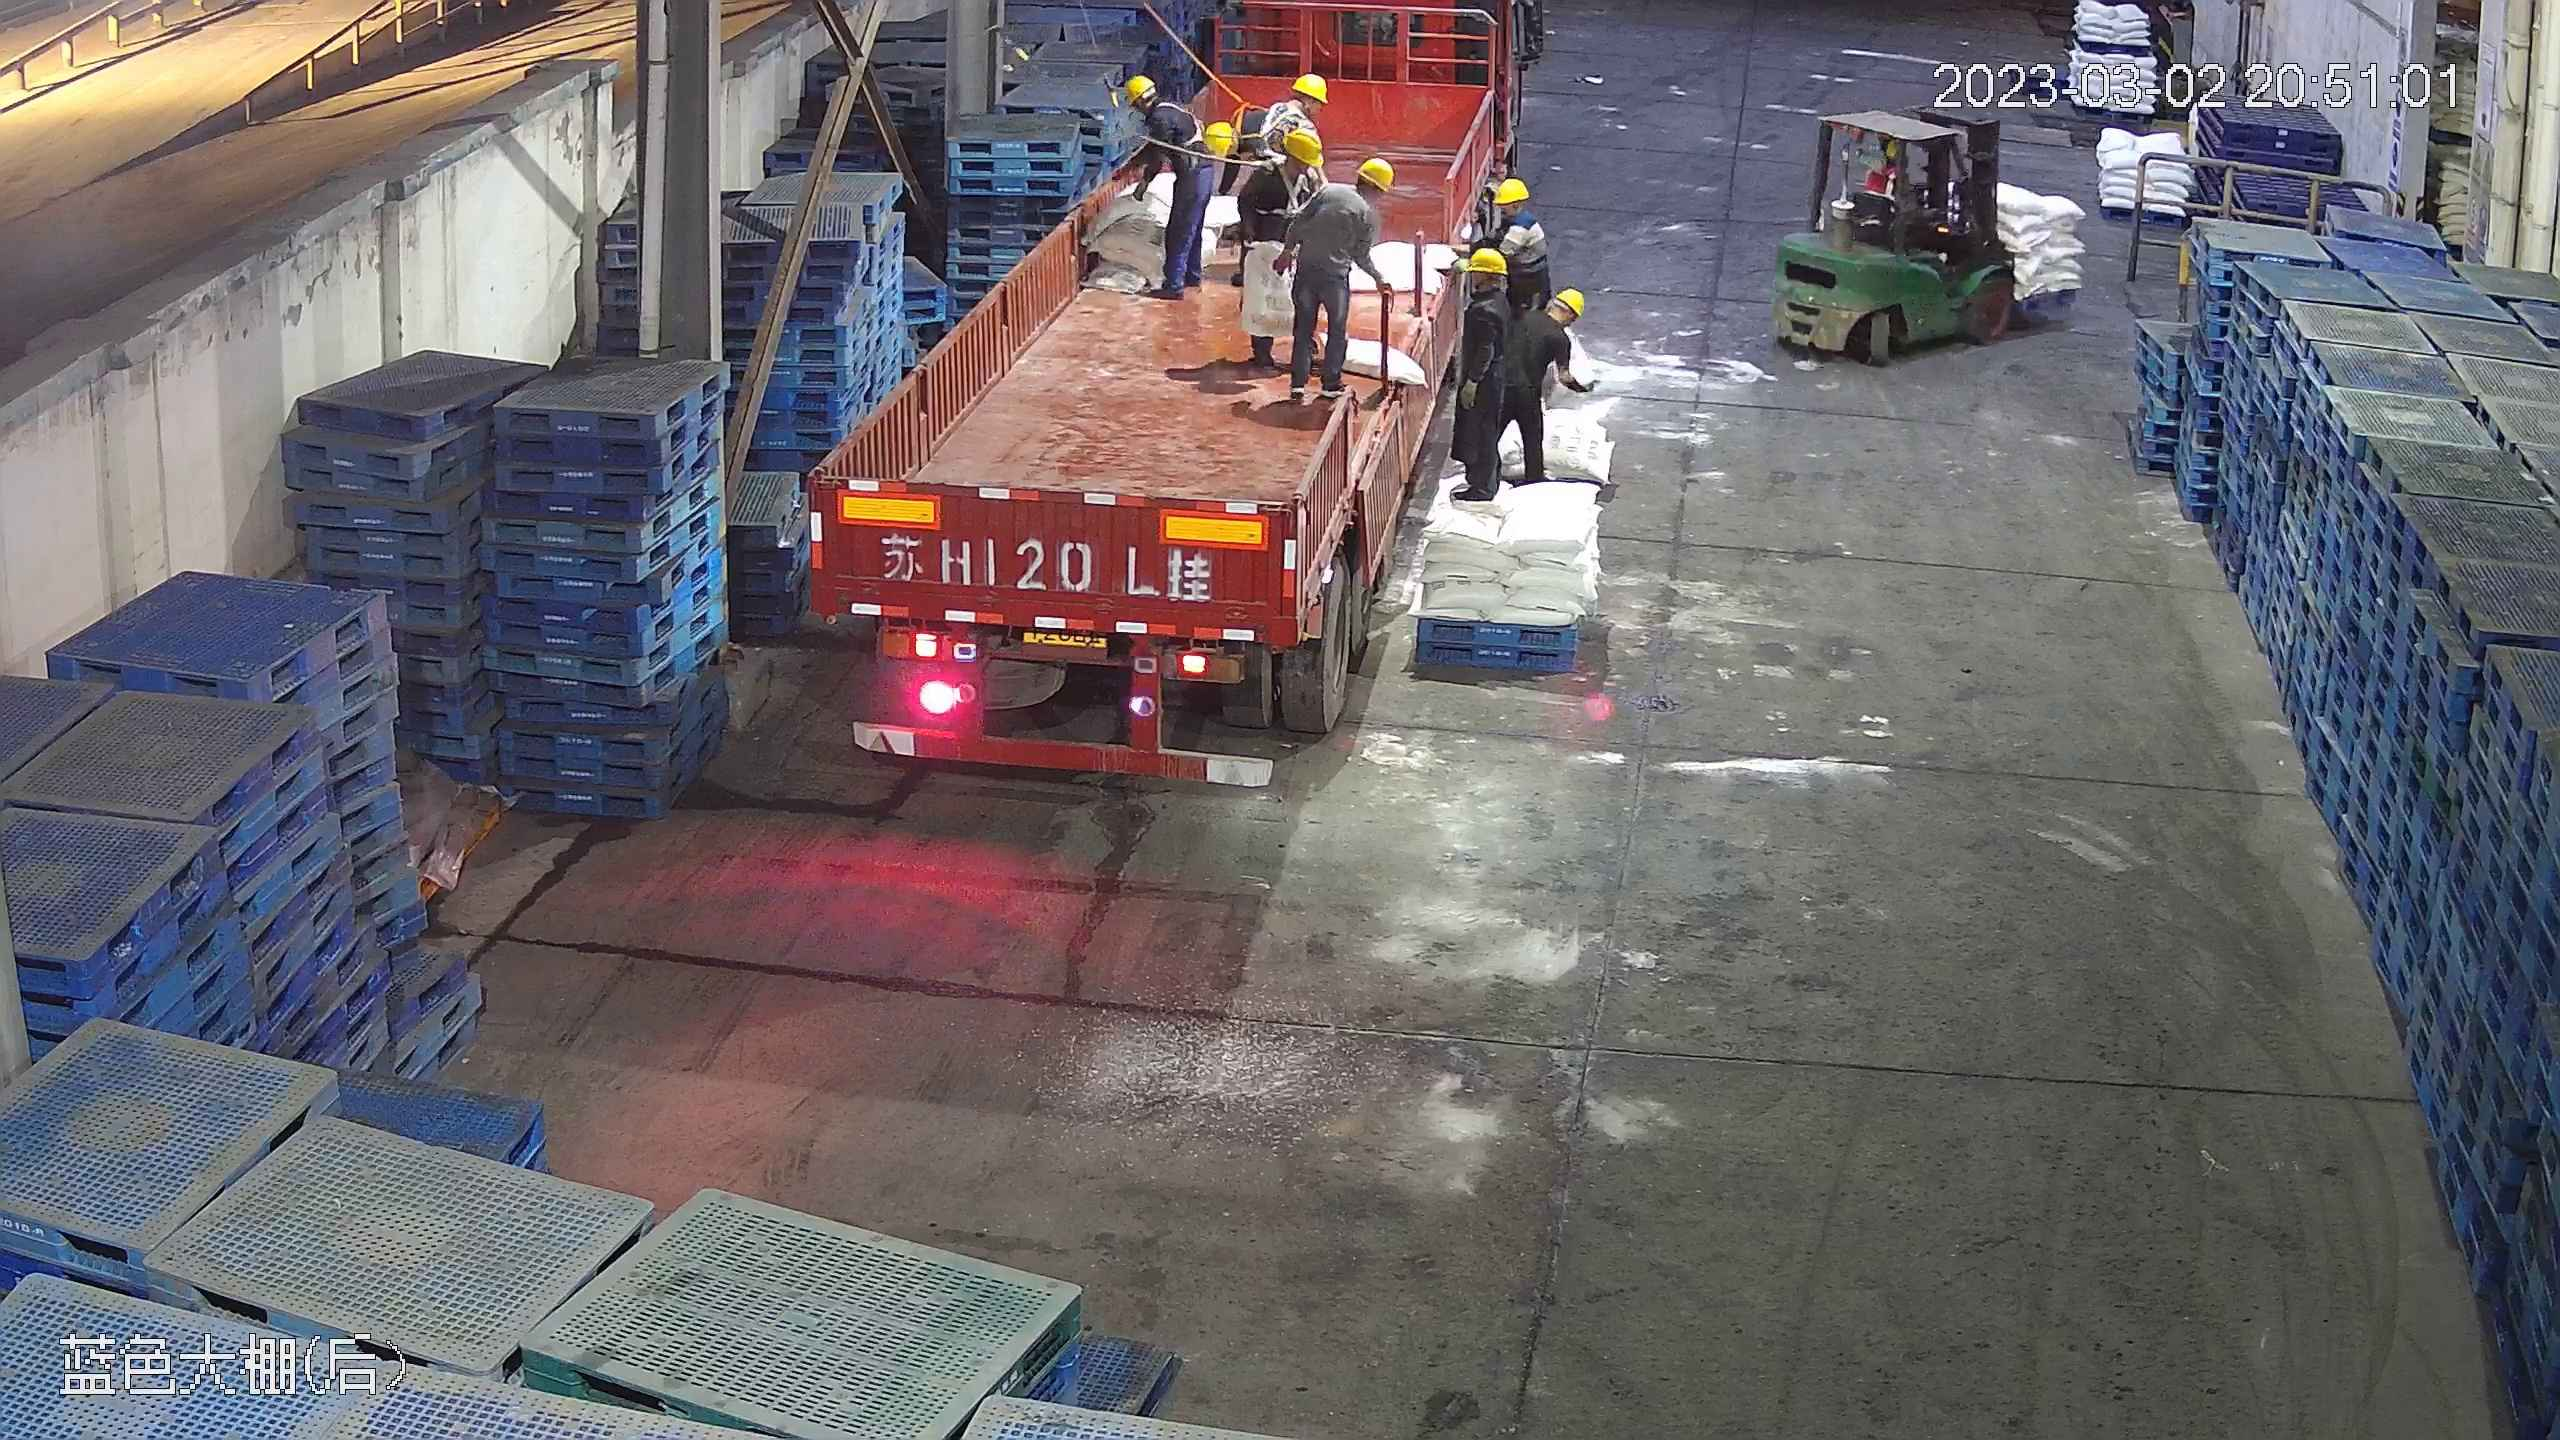belt: (1128, 82, 1196, 153), (1253, 160, 1316, 224), (1255, 102, 1315, 154), (1220, 95, 1267, 140)
head: (1300, 155, 1392, 243), (1232, 119, 1326, 205), (1475, 174, 1551, 261), (1449, 241, 1519, 329), (1518, 284, 1584, 370), (1253, 73, 1334, 138), (1120, 75, 1192, 142), (1202, 101, 1266, 158)
helmet: (1283, 131, 1322, 172), (1353, 156, 1394, 194), (1202, 118, 1236, 158), (1462, 247, 1506, 276), (1290, 74, 1326, 103), (1121, 74, 1153, 103), (1551, 287, 1585, 315), (1491, 177, 1527, 204)
people: (1275, 140, 1389, 402), (1223, 120, 1340, 361), (1120, 74, 1217, 297), (1440, 242, 1518, 493), (1501, 282, 1586, 492)
truck: (805, 42, 1479, 784)
